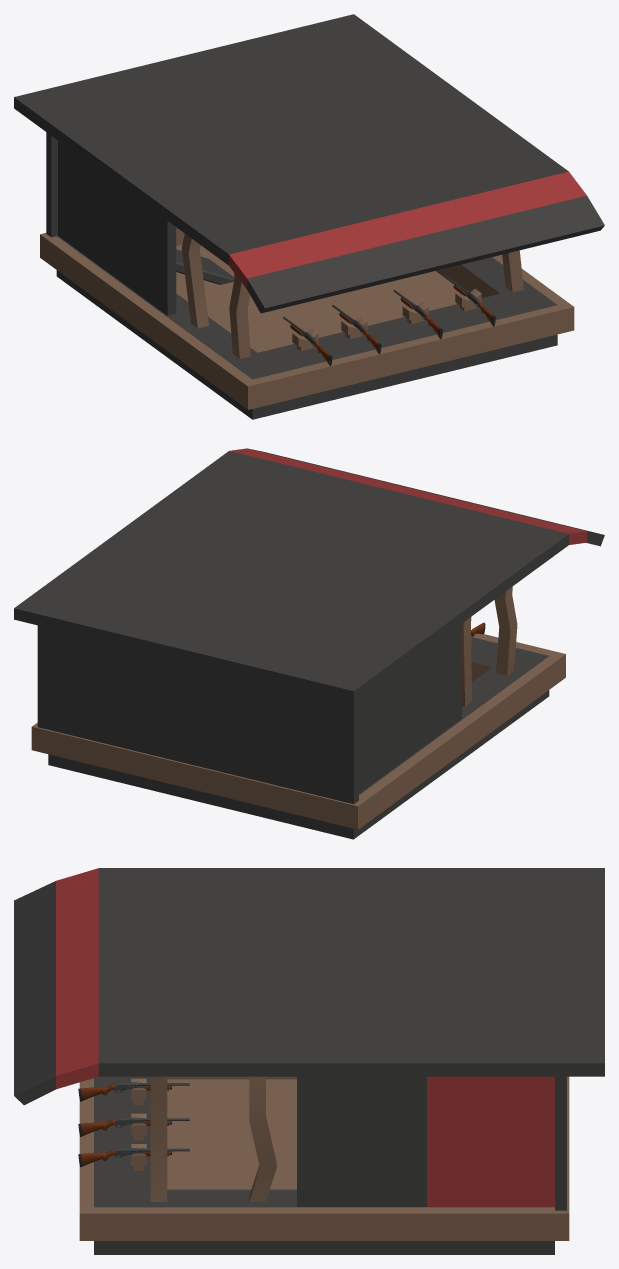
File: Tir.fbx
3 renders of one model, top to bottom at view 1: azimuth 30°, elevation 25°; view 2: azimuth 150°, elevation 25°; view 3: azimuth 270°, elevation 25°, orthographic. The views are drawn at different scales.
Parts seen in each view (by area): view 1: pCube2, pCube1, pCube9, pCube7, pCube6, pCube10, pCube11, pCube5; view 2: pCube2, pCube10, pCube1, pCube9, pCube6, pCube7; view 3: pCube2, pCube1, pCube8, pCube4, pCube5, pCube10, trigger_assembly4, trigger_assembly3, trigger_assembly2.
Boxes of the visible parts, x1,y1,x2,y2 form: pCube2: (14,14,604,313); pCube1: (40,227,574,419); pCube9: (58,141,176,315); pCube7: (181,234,208,328); pCube6: (229,273,250,358); pCube10: (46,132,57,237); pCube11: (176,249,234,284); pCube5: (502,250,523,292); pCube2: (14,448,604,702); pCube10: (37,625,358,804); pCube1: (31,633,565,839); pCube9: (359,624,461,793); pCube6: (494,586,517,675); pCube7: (462,617,471,706); pCube2: (14,868,604,1105); pCube1: (79,1076,569,1254); pCube8: (297,1076,554,1206); pCube4: (249,1076,276,1201); pCube5: (150,1076,167,1201); pCube10: (555,1076,566,1210); trigger_assembly4: (78,1148,189,1167); trigger_assembly3: (78,1117,189,1136); trigger_assembly2: (78,1082,189,1101).
Bounding box in the file's own units: 103 × 50.1 × 132.
